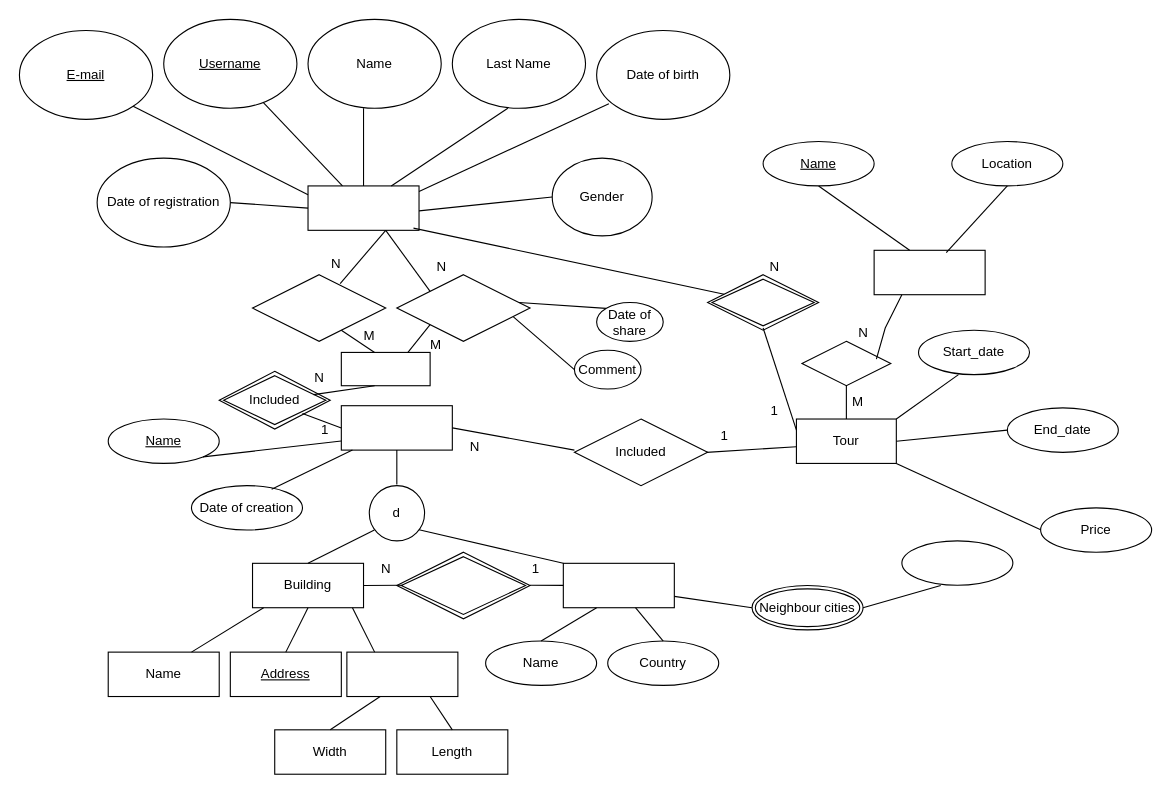
This 1171x794 diagram has some shape labels left out. The shapes that lost their labels are listed below. From the top down, each one's box as (x1, y1, x2, y2) in pixels, then its label:
(307, 185, 419, 230): User
(873, 249, 985, 295): Agency
(251, 274, 386, 341): Creates
(396, 274, 530, 341): Shares
(707, 274, 819, 330): Did_go
(340, 351, 430, 386): List
(801, 340, 891, 386): Organize
(340, 405, 452, 450): Tourist attraction
(901, 540, 1013, 585): Distance
(396, 551, 530, 619): Contains
(562, 562, 674, 608): City
(346, 651, 458, 697): Geo location
